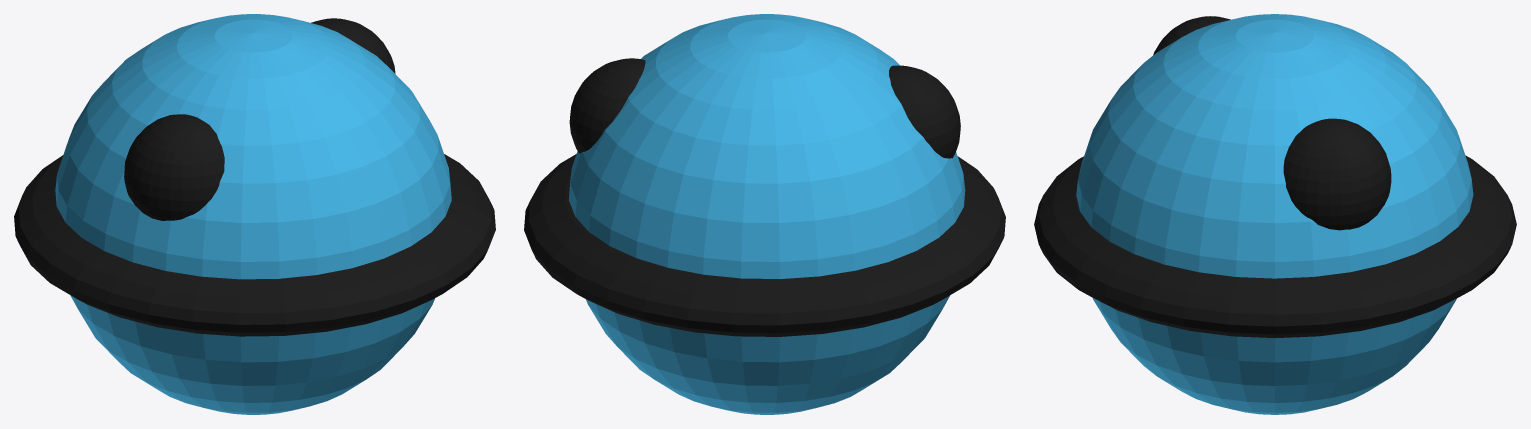
File: SphereXP.glb
The picture shows the model from 3 angles, left to right: view 1: azimuth 30°, elevation 25°; view 2: azimuth 150°, elevation 25°; view 3: azimuth 270°, elevation 25°; orthographic projection.
Parts seen in each view (by area): view 1: Sphere, Sphere.001; view 2: Sphere, Sphere.001; view 3: Sphere, Sphere.001.
Boxes of the visible parts, x1=… form: Sphere: x1=55, y1=14, x2=451, y2=414; Sphere.001: x1=14, y1=18, x2=495, y2=336; Sphere: x1=569, y1=14, x2=965, y2=414; Sphere.001: x1=524, y1=58, x2=1005, y2=336; Sphere: x1=1076, y1=14, x2=1473, y2=414; Sphere.001: x1=1034, y1=16, x2=1516, y2=338.
Size of the model in its own units: 0.7715 by 0.6414 by 0.7715.
